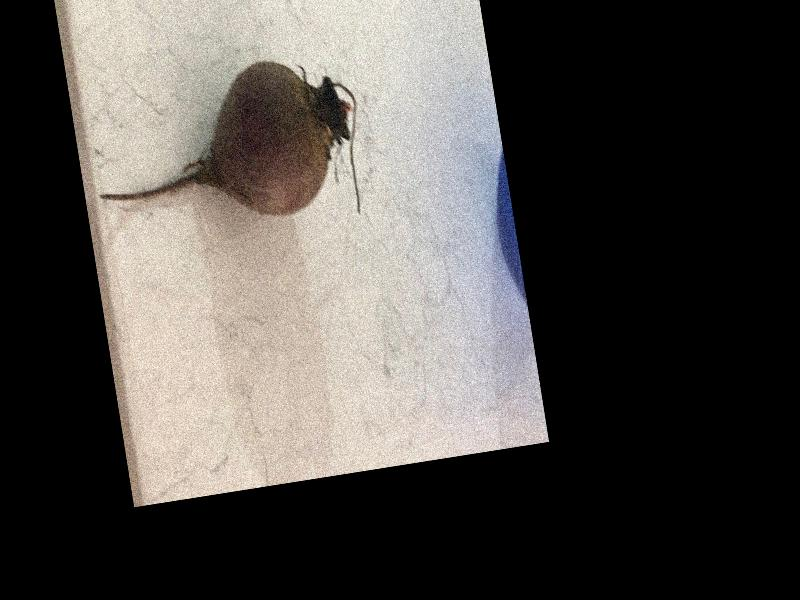Beet: (83, 49, 374, 254)
